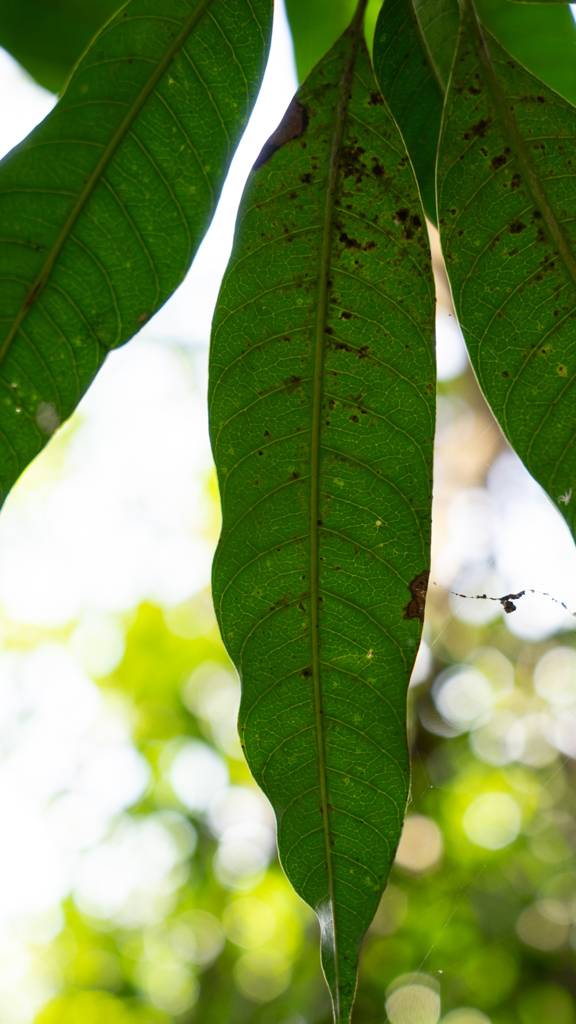Alternaria brassicicola: (320, 97, 426, 567), (455, 91, 576, 322)
